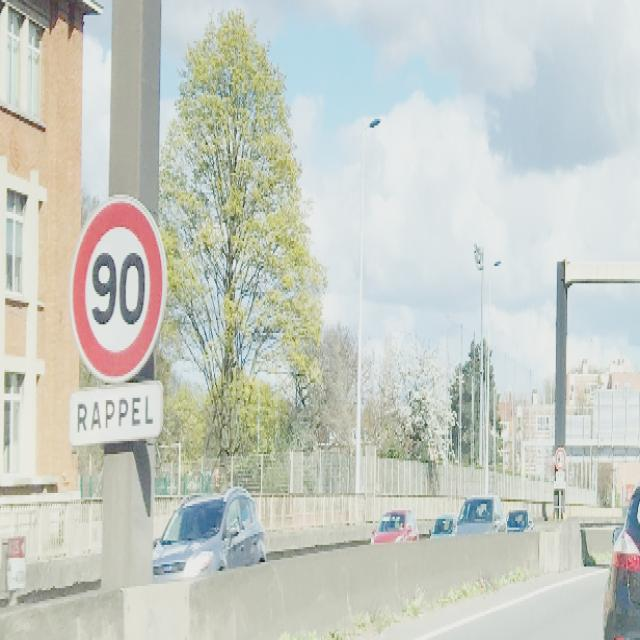speed_90: (70, 195, 168, 385)
